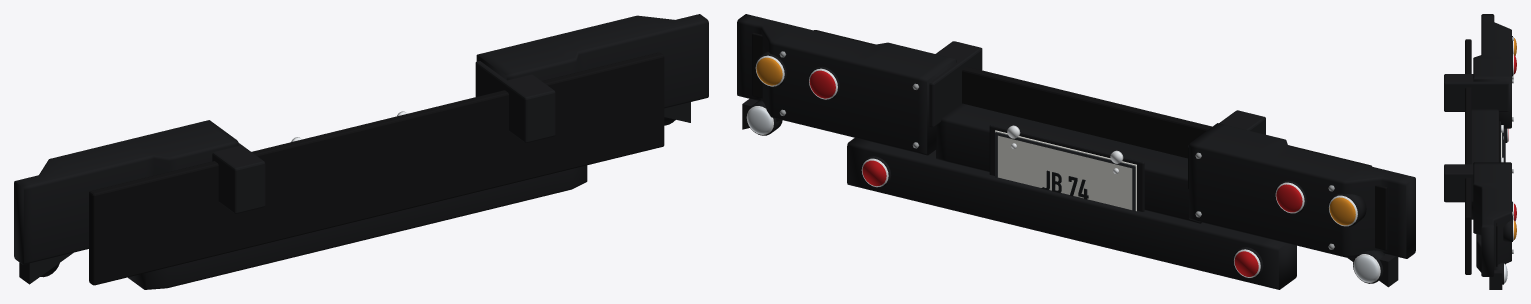
The model's file is rearBumper_damd_little_d_rear.glb.
3 views of the same model, side by side, from view 1: azimuth 30°, elevation 25°; view 2: azimuth 150°, elevation 25°; view 3: azimuth 270°, elevation 25° (orthographic). The views are drawn at different scales.
Parts seen in each view (by area): view 1: valance.022, endBox-1.001, endBox1.001, lower.005, mount1.020, mount-1.020, revBracket-1; view 2: lower.005, endBox-1.001, endBox1.001, valance.022, middle, plate.025, mount1.020, plateBase, rubber-1, mount-1.020, rubber1, lampDome-1a (+10 smaller); view 3: endBox1.001, endBox-1.001, mount-1.020, middle, valance.022, mount1.020, lower.005, revBracket1, lampCan1a, lampCan1c, rubber1, plateBase.
Part boxes in pixels (x1,y1,x2,y2): valance.022: [89, 52, 664, 285]; endBox-1.001: [14, 120, 238, 264]; endBox1.001: [476, 14, 708, 108]; lower.005: [128, 165, 587, 289]; mount1.020: [475, 61, 555, 143]; mount-1.020: [212, 143, 265, 213]; revBracket-1: [19, 252, 73, 284]; lower.005: [847, 138, 1296, 289]; endBox-1.001: [1189, 123, 1415, 258]; endBox1.001: [737, 14, 956, 155]; valance.022: [814, 30, 1371, 166]; middle: [936, 103, 1201, 223]; plate.025: [995, 130, 1136, 211]; mount1.020: [929, 41, 982, 127]; plateBase: [989, 125, 1144, 211]; rubber-1: [1375, 185, 1387, 250]; mount-1.020: [1188, 110, 1265, 189]; rubber1: [752, 32, 762, 98]; lampDome-1a: [1330, 197, 1355, 224]; endBox1.001: [1473, 162, 1511, 276]; endBox-1.001: [1473, 14, 1511, 128]; mount-1.020: [1444, 74, 1508, 111]; middle: [1471, 109, 1498, 219]; valance.022: [1465, 39, 1471, 274]; mount1.020: [1444, 164, 1473, 202]; lower.005: [1476, 128, 1505, 272]; revBracket1: [1489, 270, 1502, 289]; lampCan1a: [1503, 218, 1512, 241]; lampCan1c: [1494, 263, 1503, 284]; rubber1: [1496, 222, 1497, 266]; plateBase: [1499, 121, 1500, 162].
Size of the model in its own units: 1.56 by 0.289 by 0.225.
